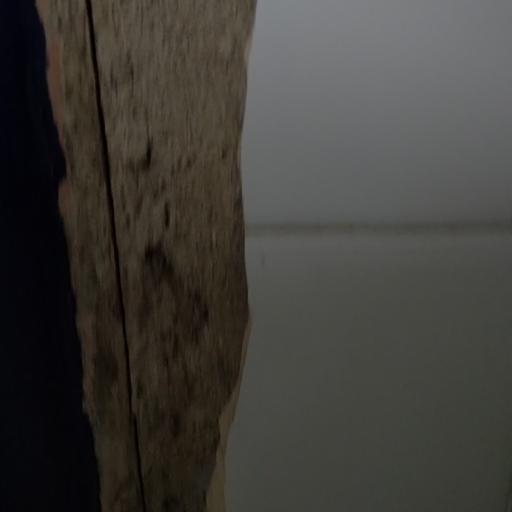spalling: (1, 0, 256, 511)
